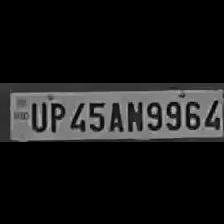4: (66, 97, 86, 131), (202, 95, 222, 129)
5: (86, 97, 106, 130)
6: (181, 96, 201, 128)
9: (142, 97, 162, 130), (162, 97, 182, 130)
A: (106, 97, 124, 131)
N: (124, 96, 144, 132)
P: (46, 96, 66, 132)
U: (27, 97, 46, 130)
